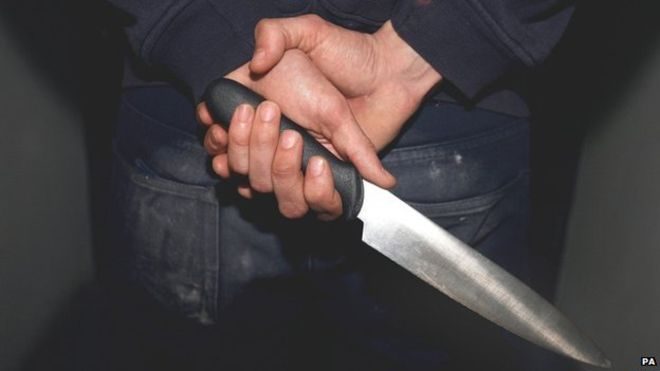knife: (195, 65, 626, 371)
